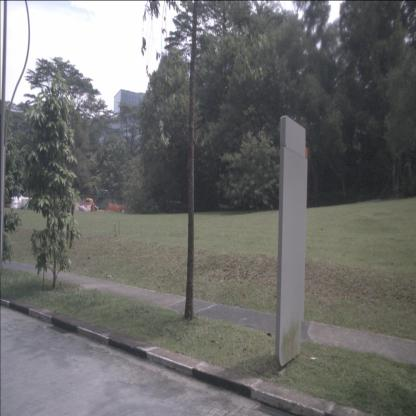vehicle-car: (91, 204, 99, 211)
